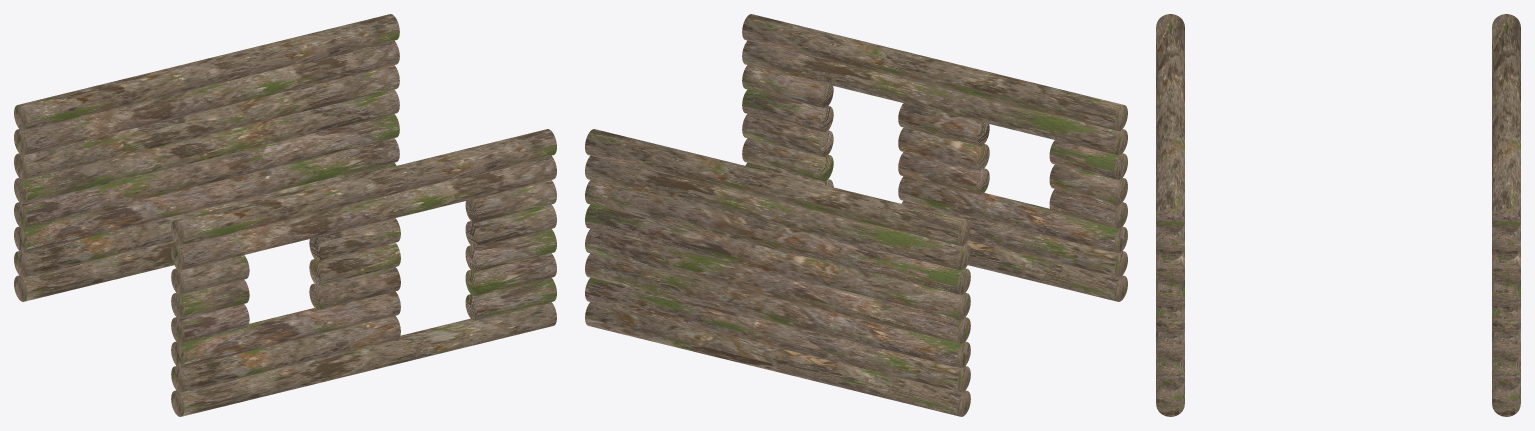
3 views of the same model, side by side, from view 1: azimuth 30°, elevation 25°; view 2: azimuth 150°, elevation 25°; view 3: azimuth 270°, elevation 25° (orthographic). The views are drawn at different scales.
Parts seen in each view (by area): view 1: Cylinder; view 2: Cylinder; view 3: Cylinder.
Part boxes in pixels (left/top/right/bottom): Cylinder: left=14, top=14, right=556, bottom=416; Cylinder: left=585, top=14, right=1127, bottom=416; Cylinder: left=1156, top=14, right=1520, bottom=416.
Bounding box in the file's own units: 31.94 × 16 × 25.34.
1 material, 1 textured.
